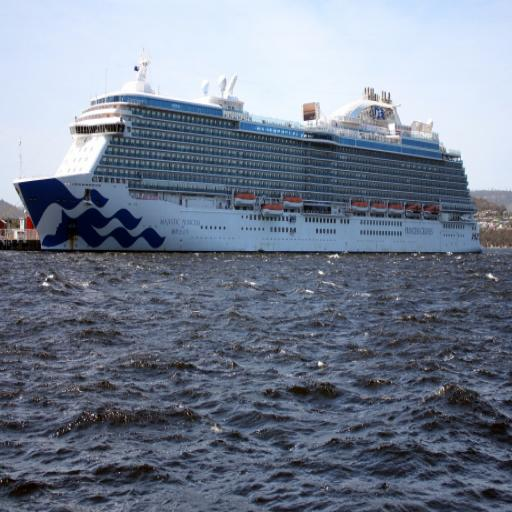cruises: (11, 44, 490, 267)
